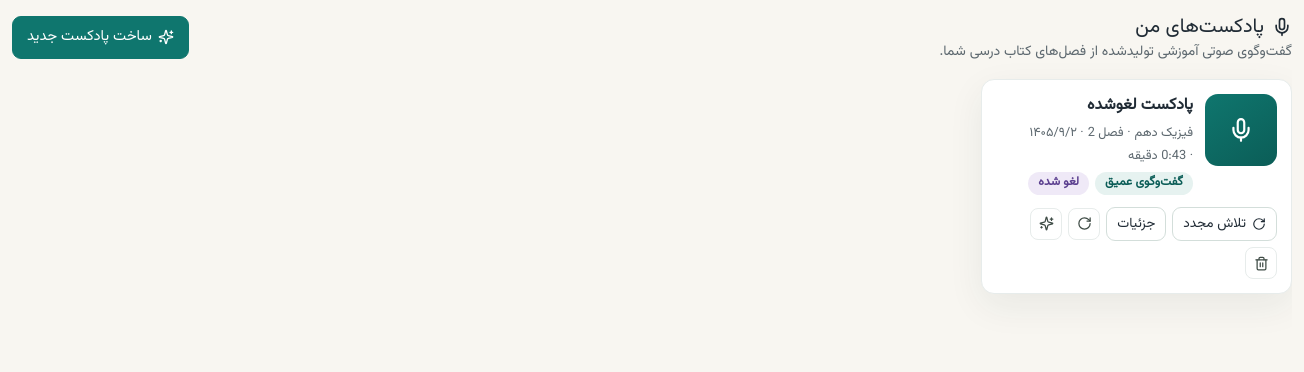
it: PodcastWorkspace › offers retry for a cancelled episode too (Phase 04 — backend allows failed/cancelled)
Click the button "تلاش مجدد": (1225, 224) [1172, 207, 1277, 241]
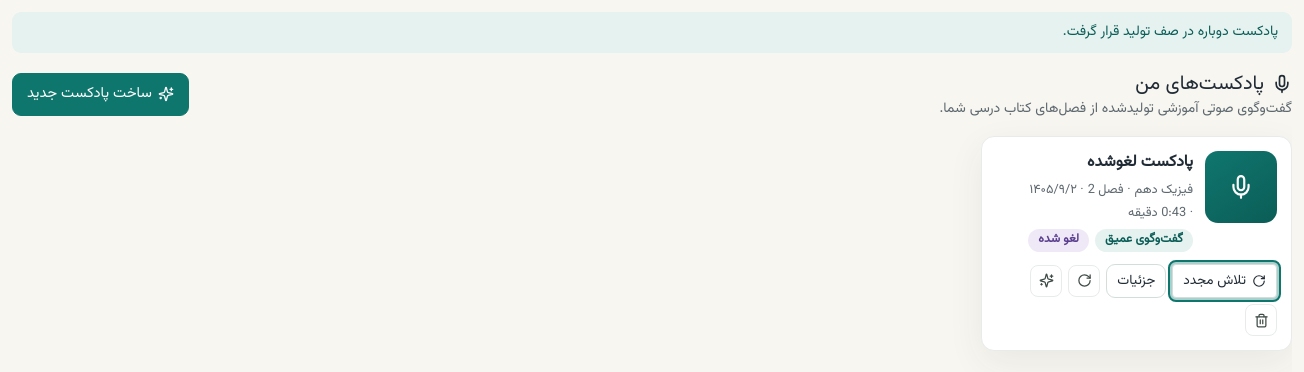
Expected: the text "پادکست دوباره در صف تولید قرار گرفت." is shown, [12, 12, 1292, 53]
